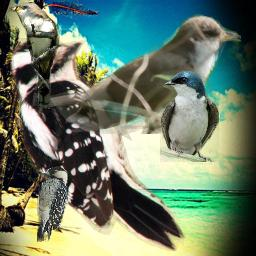Cuckoo: (43, 14, 241, 134), (8, 2, 60, 109)
Swallow: (160, 70, 219, 162)
Woodpecker: (9, 38, 186, 255), (37, 166, 68, 242)
